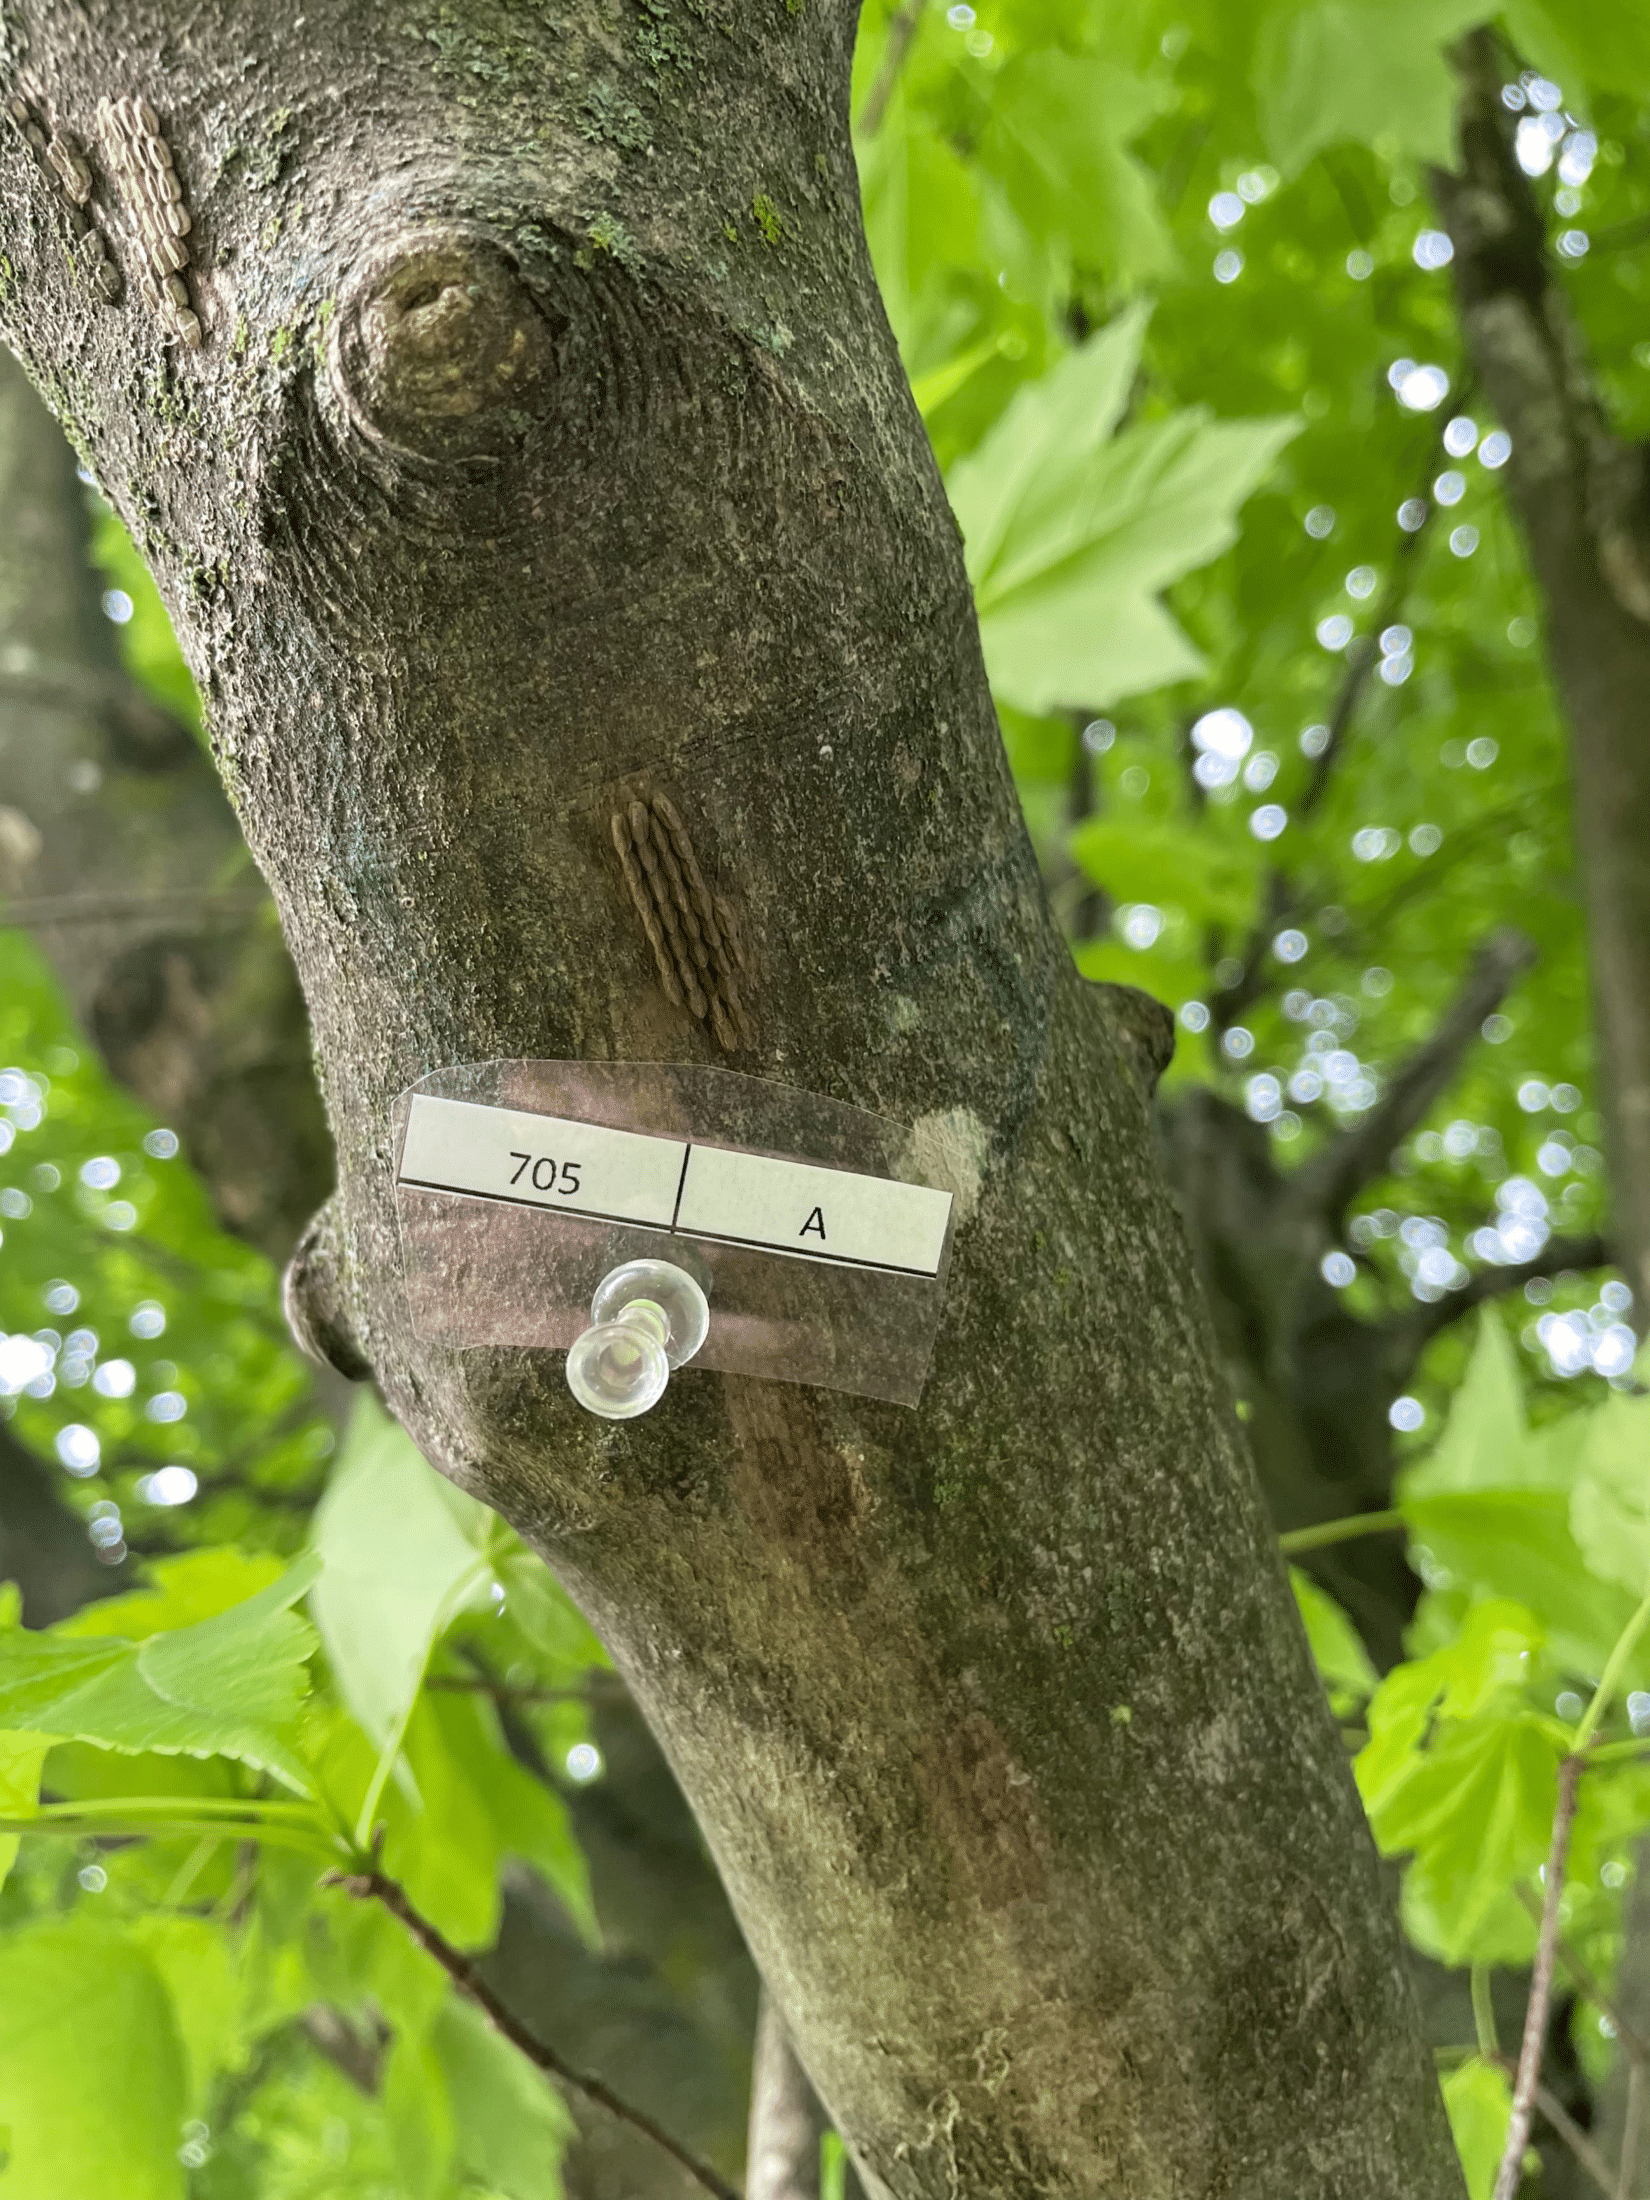egg masses: (605, 797, 754, 1053), (924, 1725, 1073, 1935), (744, 1343, 861, 1573)
